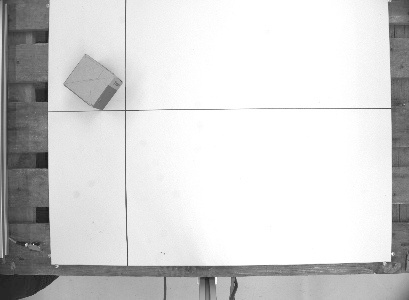b7: (59, 52, 123, 112)
